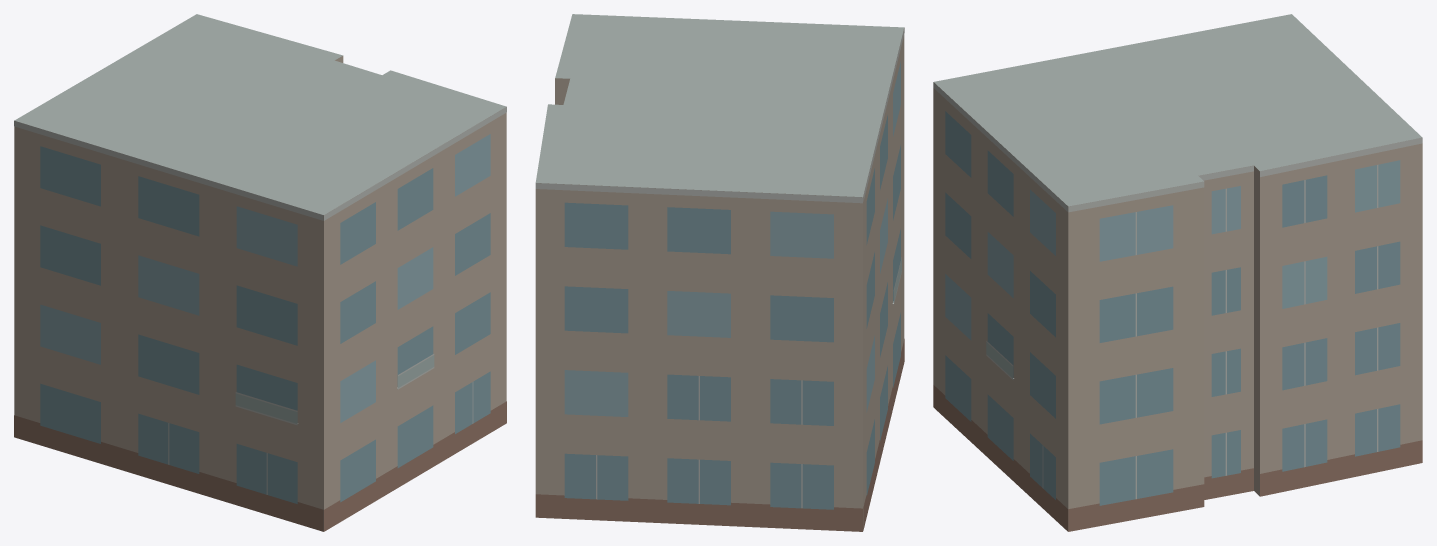
The model's file is survey-upis-32732809.glb.
The picture shows the model from 3 angles, left to right: view 1: azimuth 30°, elevation 25°; view 2: azimuth 150°, elevation 25°; view 3: azimuth 270°, elevation 25°; orthographic projection. The views are drawn at different scales.
Visible parts, largest first — view 1: survey-upis-32732809.tmp; view 2: survey-upis-32732809.tmp; view 3: survey-upis-32732809.tmp.
Part boxes in pixels (<box>): survey-upis-32732809.tmp: <box>14,14,506,531</box>; survey-upis-32732809.tmp: <box>535,14,904,531</box>; survey-upis-32732809.tmp: <box>933,14,1422,531</box>.
Size of the model in its own units: 16.94 by 13.35 by 18.19.
